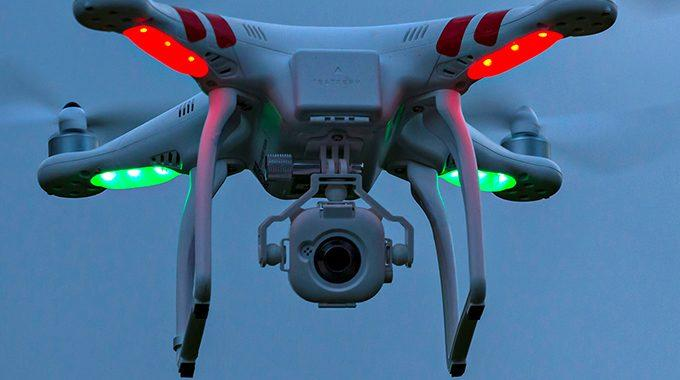drone: (21, 1, 680, 242)
